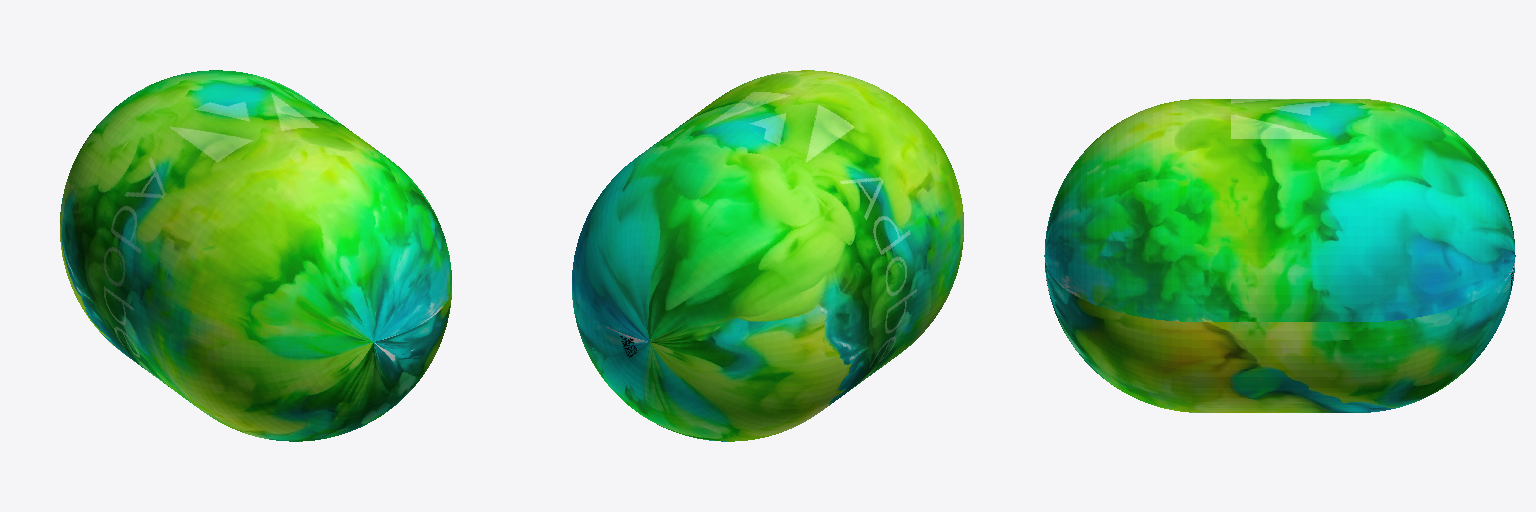
3 views of the same model, side by side, from view 1: azimuth 30°, elevation 25°; view 2: azimuth 150°, elevation 25°; view 3: azimuth 270°, elevation 25° (orthographic).
Bounding box in the file's own units: 2 × 2 × 3.
Materials: 1 (1 with a texture image).